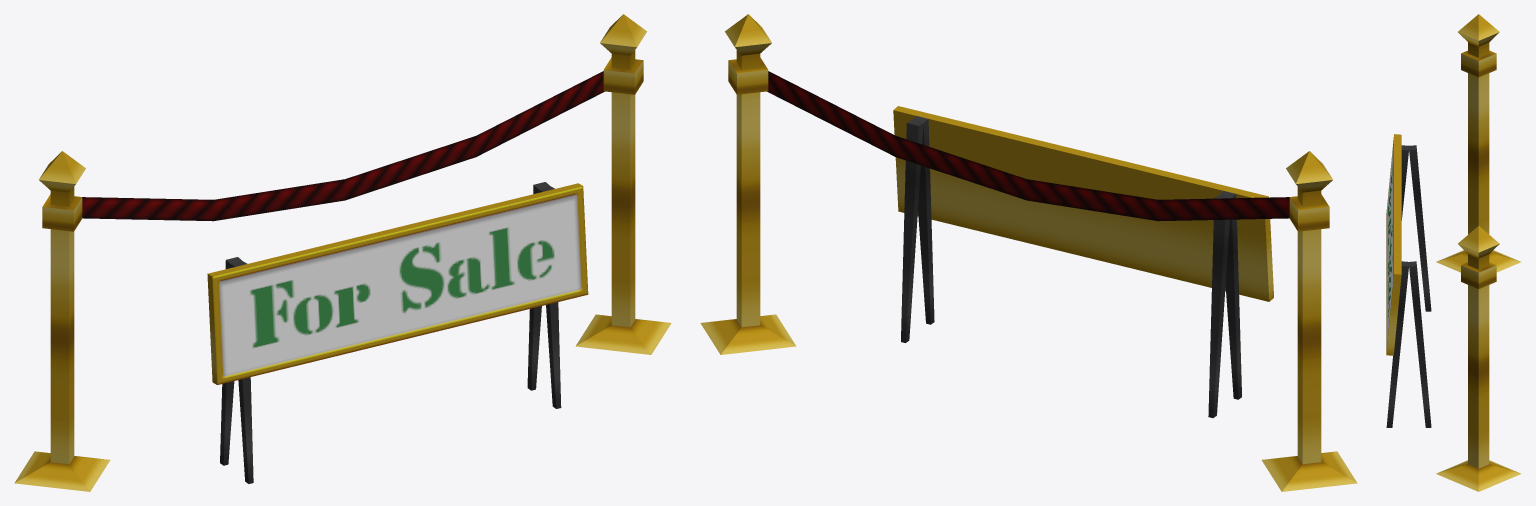
The model's file is Storefront_ForSale.fbx.
The picture shows the model from 3 angles, left to right: view 1: azimuth 30°, elevation 25°; view 2: azimuth 150°, elevation 25°; view 3: azimuth 270°, elevation 25°; orthographic projection. The views are drawn at different scales.
Parts seen in each view (by area): view 1: Hall.001; view 2: Hall.001; view 3: Hall.001.
Boxes of the visible parts, <box> form: Hall.001: <box>14,14,671,491</box>; Hall.001: <box>700,14,1357,491</box>; Hall.001: <box>1386,14,1521,491</box>.
Bounding box in the file's own units: 277 × 129 × 63.92.
